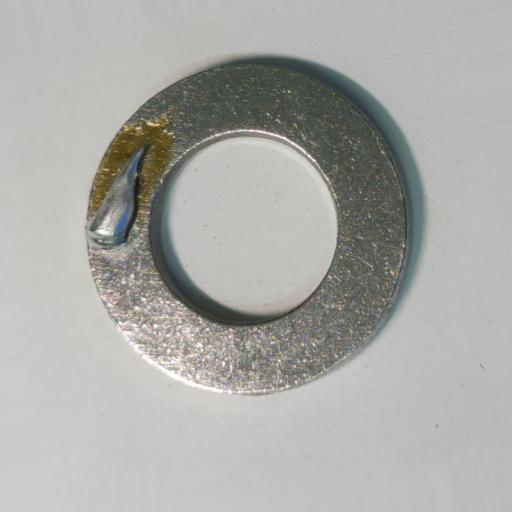excess_material: (85, 145, 147, 251)
